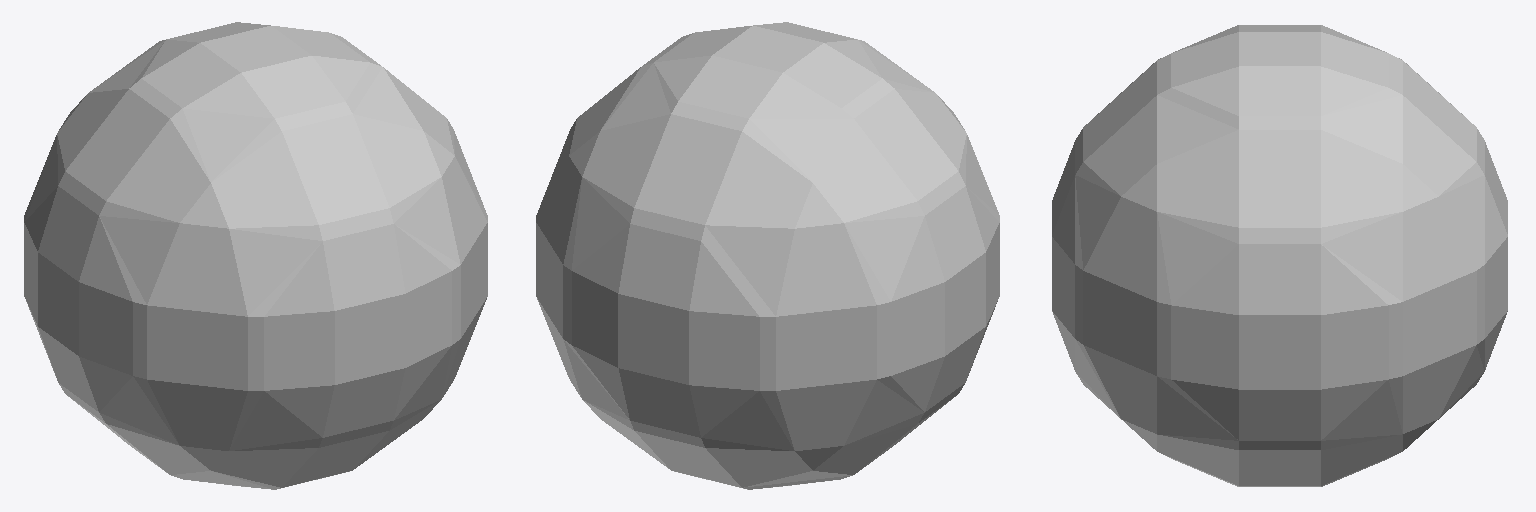
The model's file is ball.obj.
3 views of the same model, side by side, from view 1: azimuth 30°, elevation 25°; view 2: azimuth 150°, elevation 25°; view 3: azimuth 270°, elevation 25° (orthographic).
Visible parts, largest first — view 1: Mball; view 2: Mball; view 3: Mball.
Boxes of the visible parts, x1=… form: Mball: x1=24, y1=22, x2=487, y2=489; Mball: x1=536, y1=22, x2=999, y2=489; Mball: x1=1052, y1=25, x2=1507, y2=486.
Size of the model in its own units: 2.23 by 2.23 by 2.23.